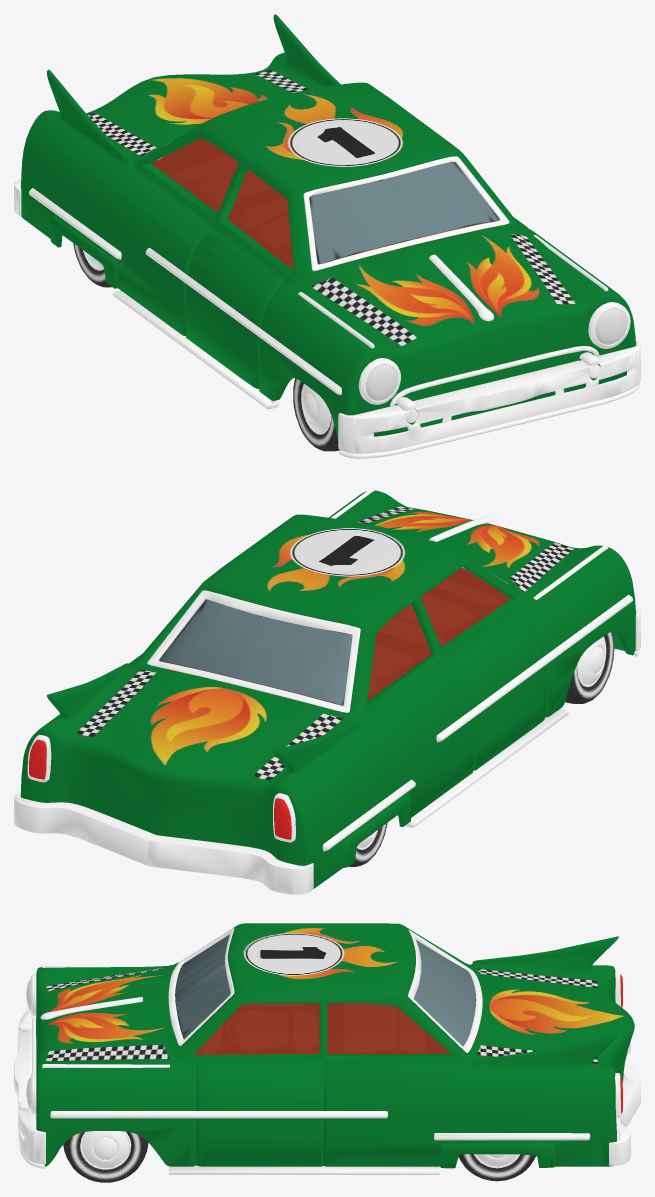
Rendered from car.glb.
The picture shows the model from 3 angles, top to bottom: view 1: azimuth 30°, elevation 25°; view 2: azimuth 150°, elevation 25°; view 3: azimuth 270°, elevation 25°; orthographic projection. The views are drawn at different scales.
Parts seen in each view (by area): view 1: ToyCar, Glass; view 2: ToyCar, Glass; view 3: ToyCar, Glass.
Boxes of the visible parts, x1,y1,x2,y2 form: ToyCar: (14,14,640,458); Glass: (309,162,499,264); ToyCar: (14,487,640,894); Glass: (158,599,352,705); ToyCar: (14,923,640,1182); Glass: (175,934,476,1046).
Bounding box in the file's own units: 0.0187 × 0.0116 × 0.0384.
2 materials, 1 textured.
